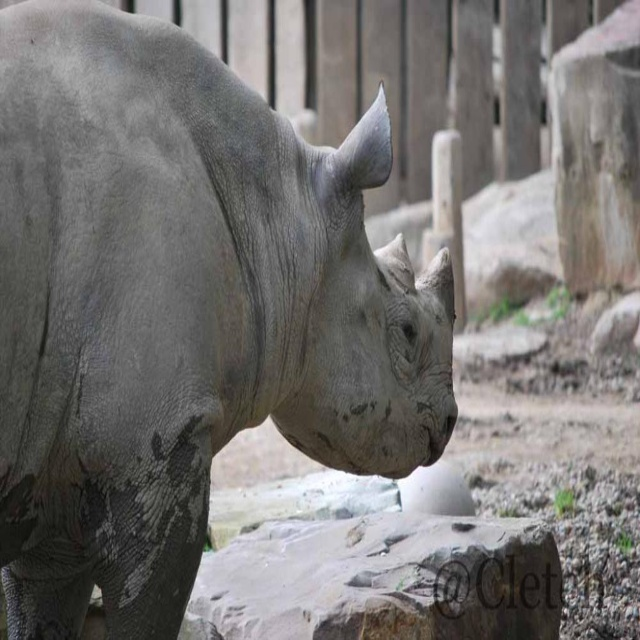Rhinoceros: (0, 0, 458, 640)
